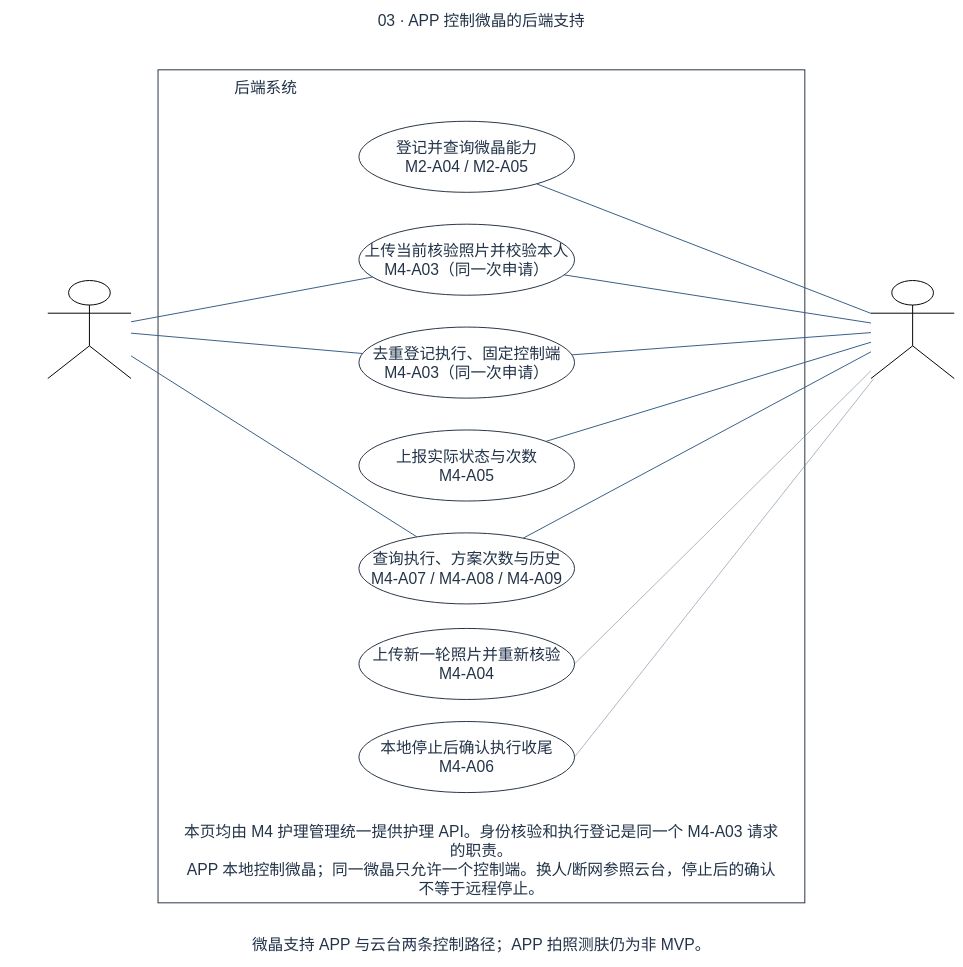
Some shapes in this 963 by 967 pixel diagram are drawn without their labels. The shapes that lost their labels are listed below. From the top down, each one's centre as x and y in pixels, then its label:
At (x=89, y=329): "APP 使用者".
At (x=912, y=329): "手机 APP （外部客户端）".
